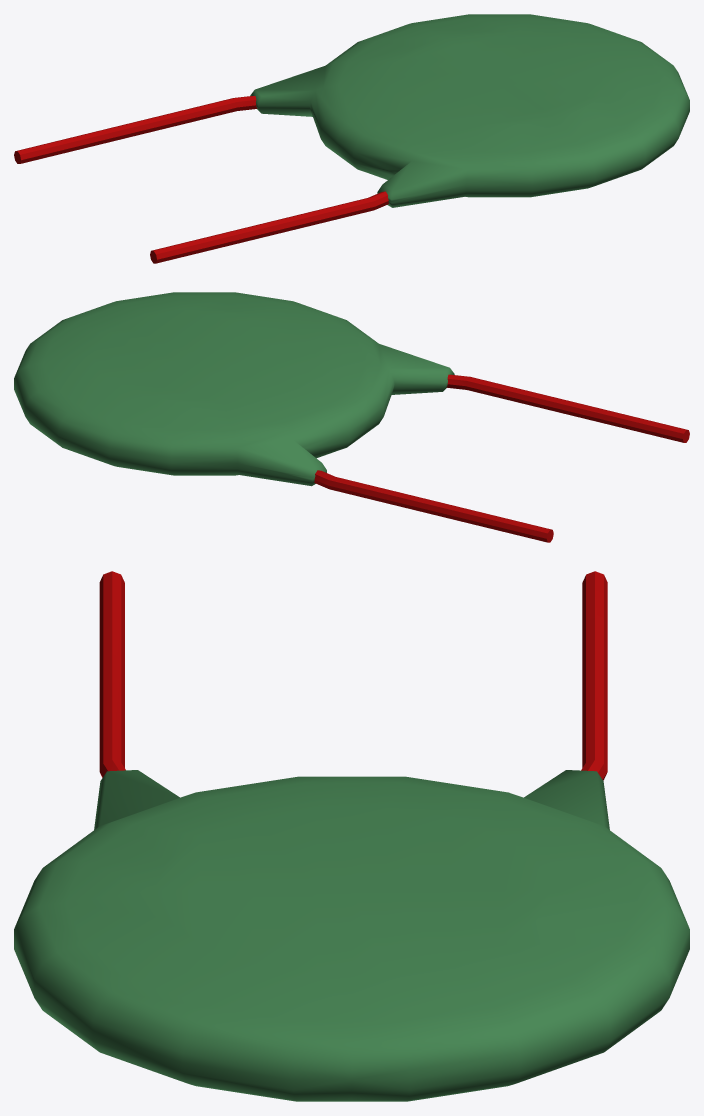
Rendered from elements024.fbx.
3 views of the same model, one above another, from view 1: azimuth 30°, elevation 25°; view 2: azimuth 150°, elevation 25°; view 3: azimuth 270°, elevation 25° (orthographic). The views are drawn at different scales.
Visible parts, largest first — view 1: element024_LOD0; view 2: element024_LOD0; view 3: element024_LOD0.
Boxes of the visible parts, x1,y1,x2,y2 form: element024_LOD0: (14,14,689,263); element024_LOD0: (14,292,689,542); element024_LOD0: (14,571,689,1101).
Size of what is drawn, in the model's own units: 1.55 by 0.1415 by 0.8865.
